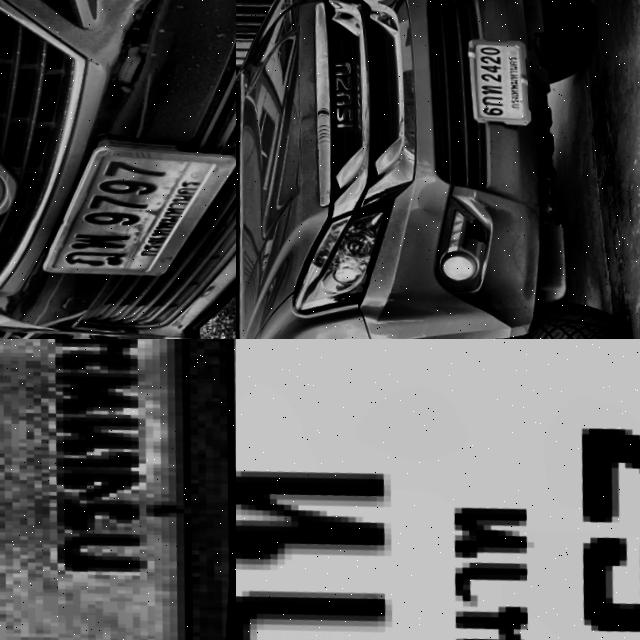license-plate: (236, 339, 640, 640), (0, 339, 236, 640), (32, 121, 236, 285), (461, 21, 542, 125)
